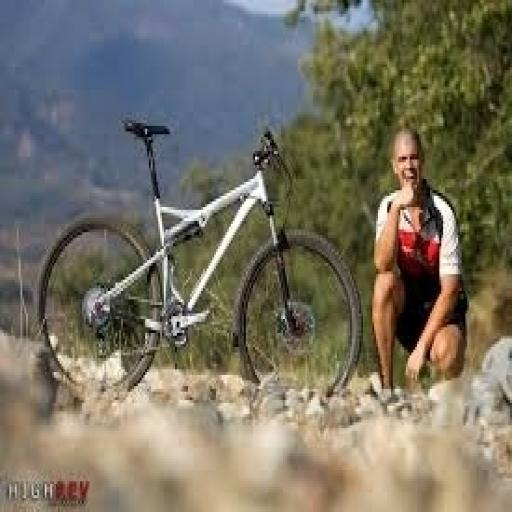cycling: (369, 123, 471, 409)
